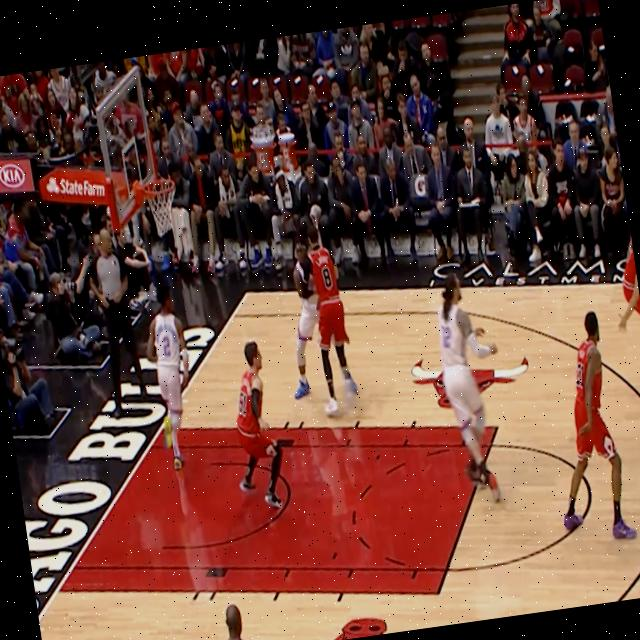foul: (258, 222, 368, 419)
